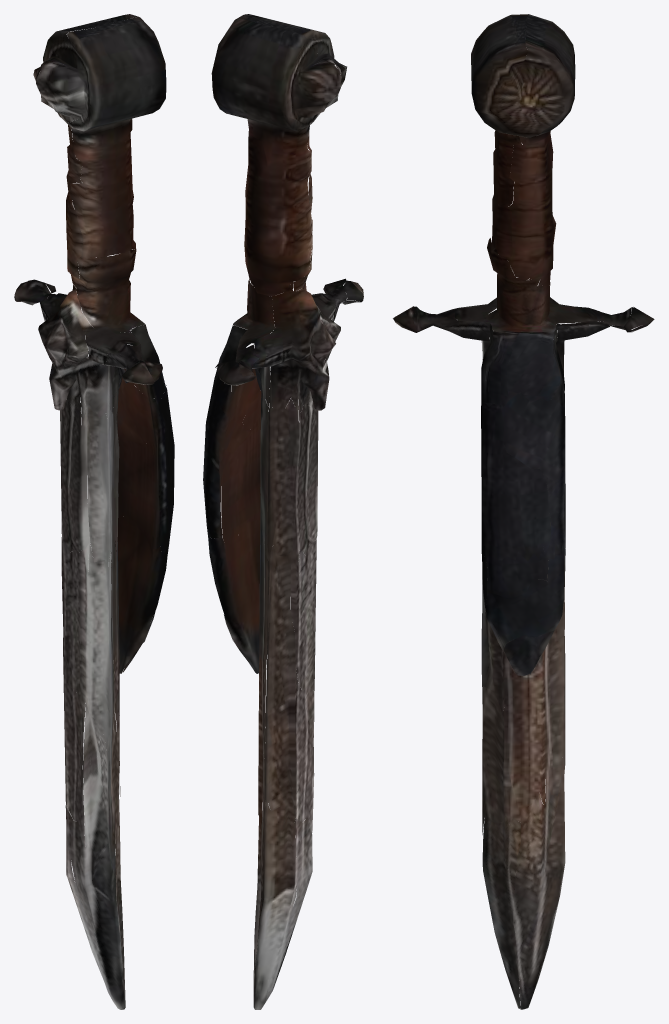
File: iron_sword.glb
3 views of the same model, side by side, from view 1: azimuth 30°, elevation 25°; view 2: azimuth 150°, elevation 25°; view 3: azimuth 270°, elevation 25° (orthographic).
Parts seen in each view (by area): view 1: iron_sword; view 2: iron_sword; view 3: iron_sword.
Boxes of the visible parts, x1,y1,x2,y2 form: iron_sword: (14, 14, 174, 1009); iron_sword: (203, 14, 363, 1009); iron_sword: (393, 14, 654, 1009).
Size of the model in its own units: 0.1435 by 1.06 by 0.2591.
Materials: 1 (1 with a texture image).
